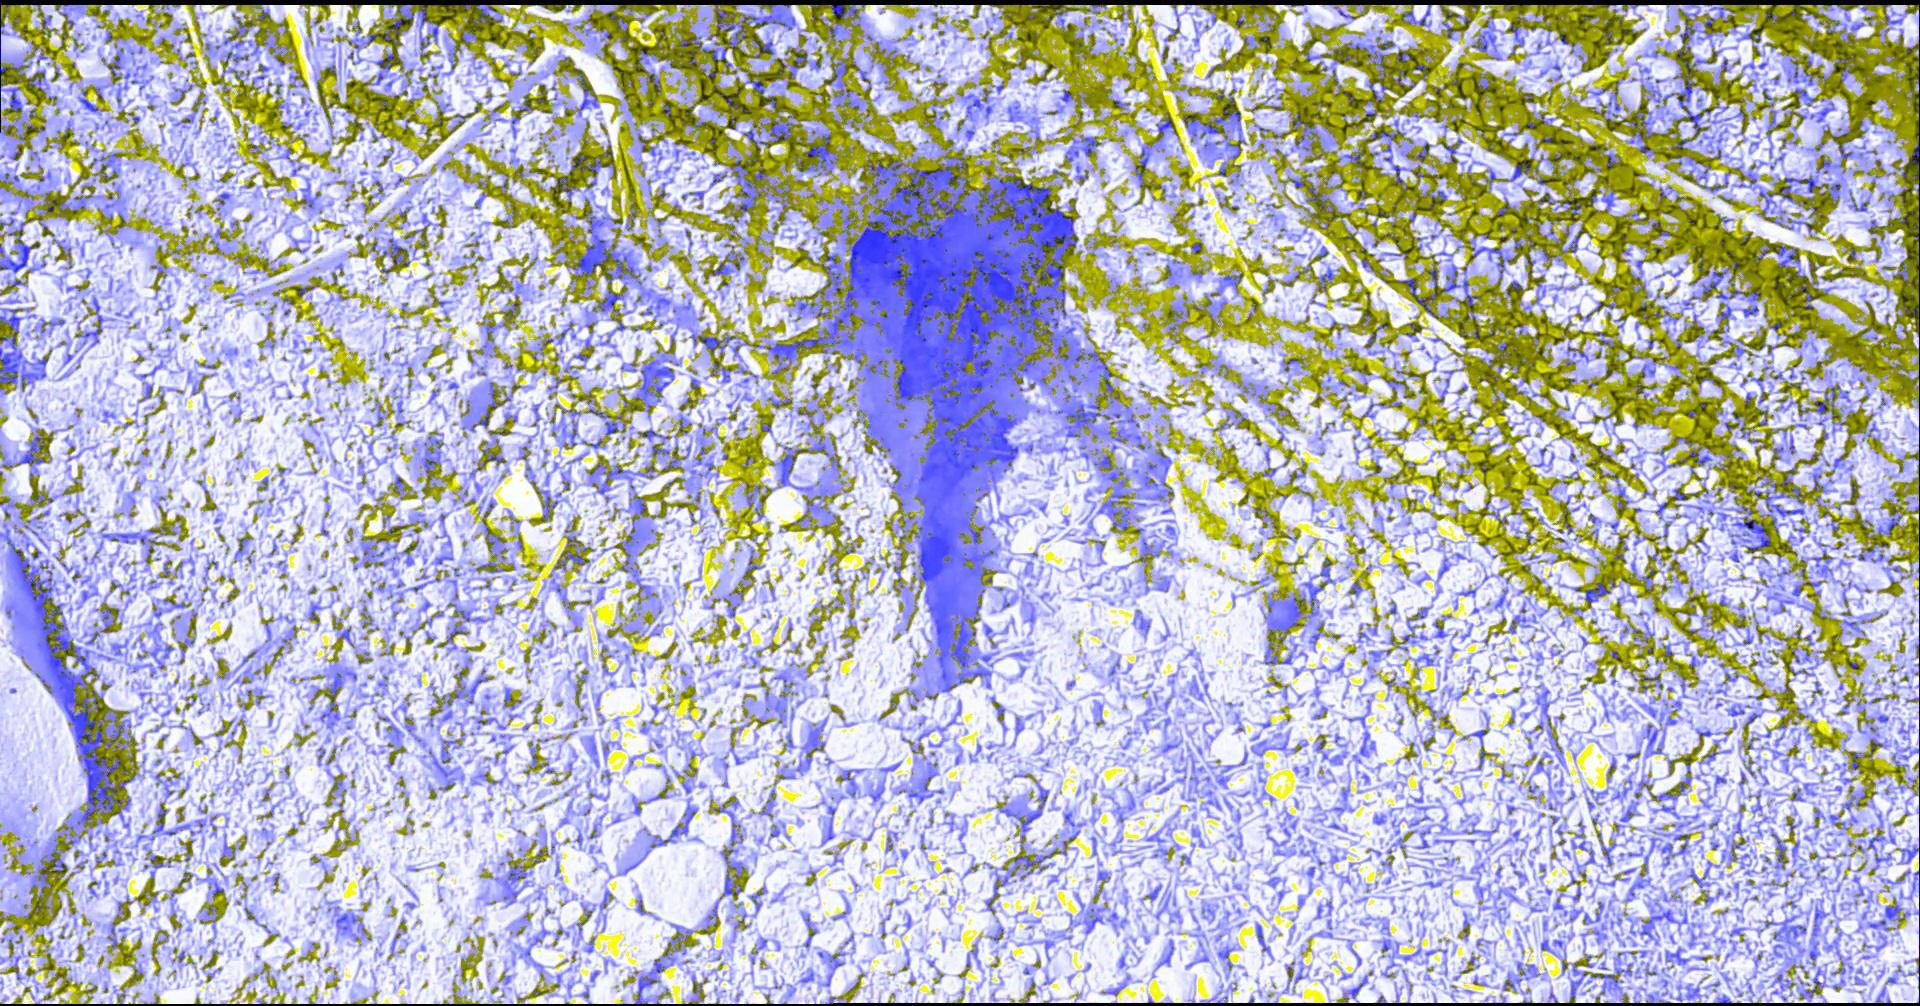ant: (1677, 65, 1702, 135), (0, 227, 37, 272), (1735, 517, 1769, 553), (767, 337, 822, 358), (578, 239, 611, 274), (930, 589, 950, 645), (1759, 177, 1796, 205), (1416, 268, 1436, 318), (1907, 796, 1919, 860), (456, 3, 491, 22), (952, 621, 968, 666), (389, 11, 413, 39), (22, 434, 44, 464), (1065, 405, 1103, 422), (571, 155, 599, 177), (0, 349, 17, 382), (702, 48, 729, 69), (805, 144, 828, 166), (1585, 582, 1609, 603), (637, 978, 657, 1005), (867, 161, 900, 177), (74, 650, 94, 674), (700, 337, 731, 351), (329, 673, 340, 711), (389, 239, 406, 263), (1511, 159, 1529, 180), (830, 3, 855, 18), (770, 122, 789, 141), (376, 52, 397, 69), (781, 455, 794, 483), (1081, 137, 1100, 155), (1773, 504, 1802, 514), (1911, 142, 1919, 180), (556, 175, 570, 196), (8, 307, 19, 332), (601, 291, 618, 306), (50, 854, 65, 871), (10, 89, 22, 111), (1884, 906, 1900, 918)
